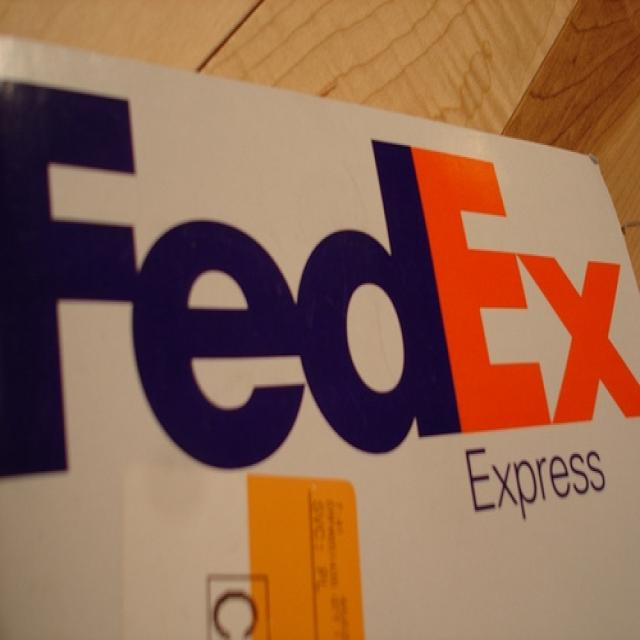fedex: (2, 71, 640, 491)
